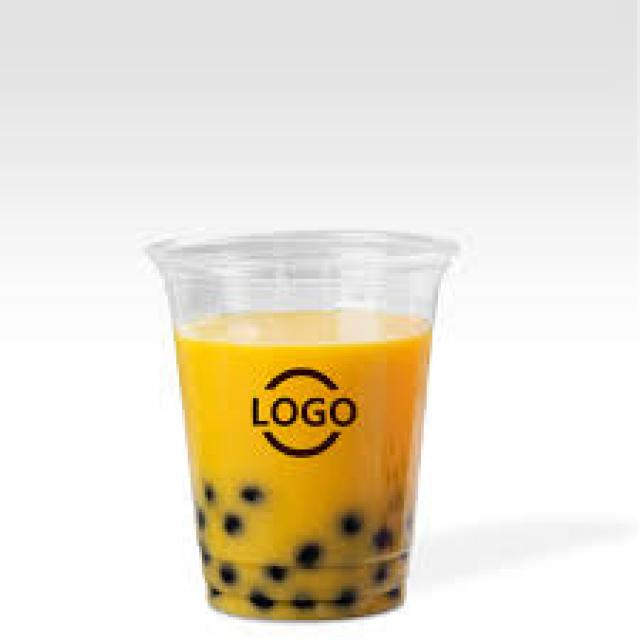bottle: (148, 231, 458, 618)
